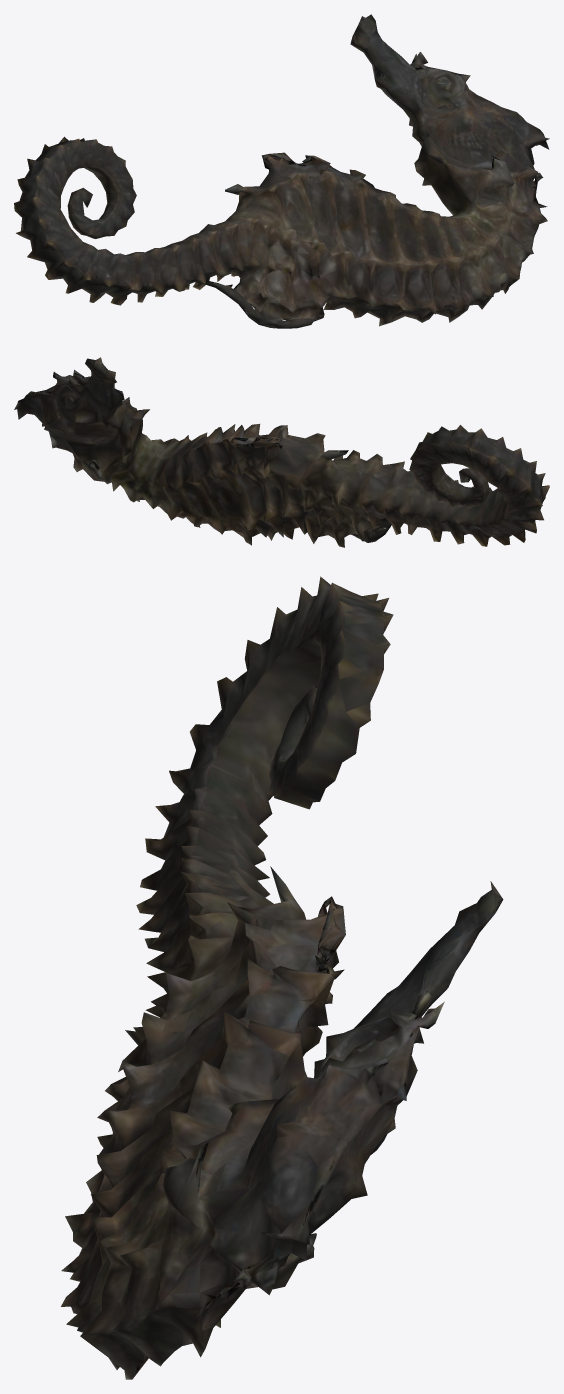
The model's file is seahorse.glb.
3 renders of one model, top to bottom at view 1: azimuth 30°, elevation 25°; view 2: azimuth 150°, elevation 25°; view 3: azimuth 270°, elevation 25°, orthographic. The views are drawn at different scales.
Visible parts, largest first — view 1: body; view 2: body; view 3: body.
Part boxes in pixels (bbox=[...]): body: bbox=[14, 14, 549, 328]; body: bbox=[14, 357, 549, 547]; body: bbox=[61, 576, 503, 1379].
Bounding box in the file's own units: 0.9995 × 0.4302 × 0.3639.
1 material, 1 textured.
